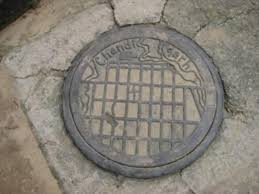manhole: (49, 5, 232, 183)
